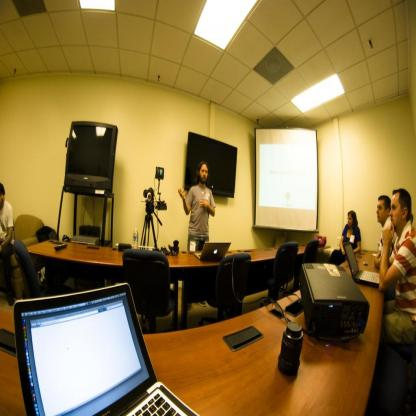board: (13, 283, 199, 416), (342, 242, 380, 288), (193, 241, 231, 262)
